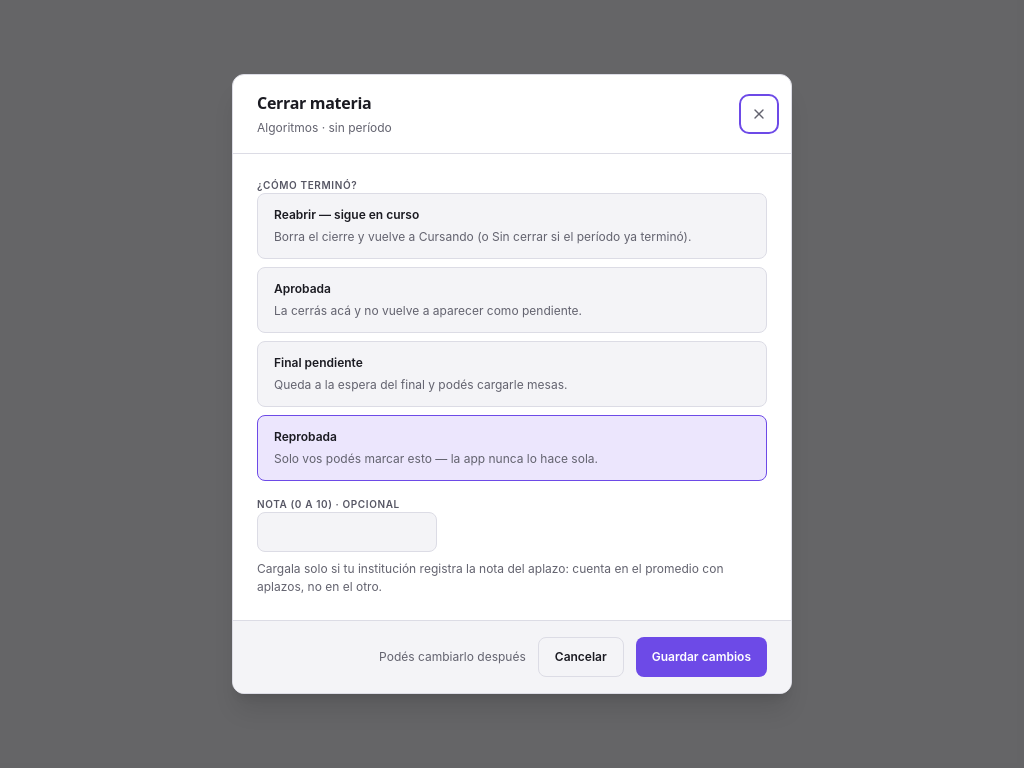
Scenario: CerrarMateriaModal — reopen option › selecting it on a closed ungraded subject warns only the closure goes
Click the button "Reabrir": (512, 226) top-left (257, 193), bottom-right (767, 259)
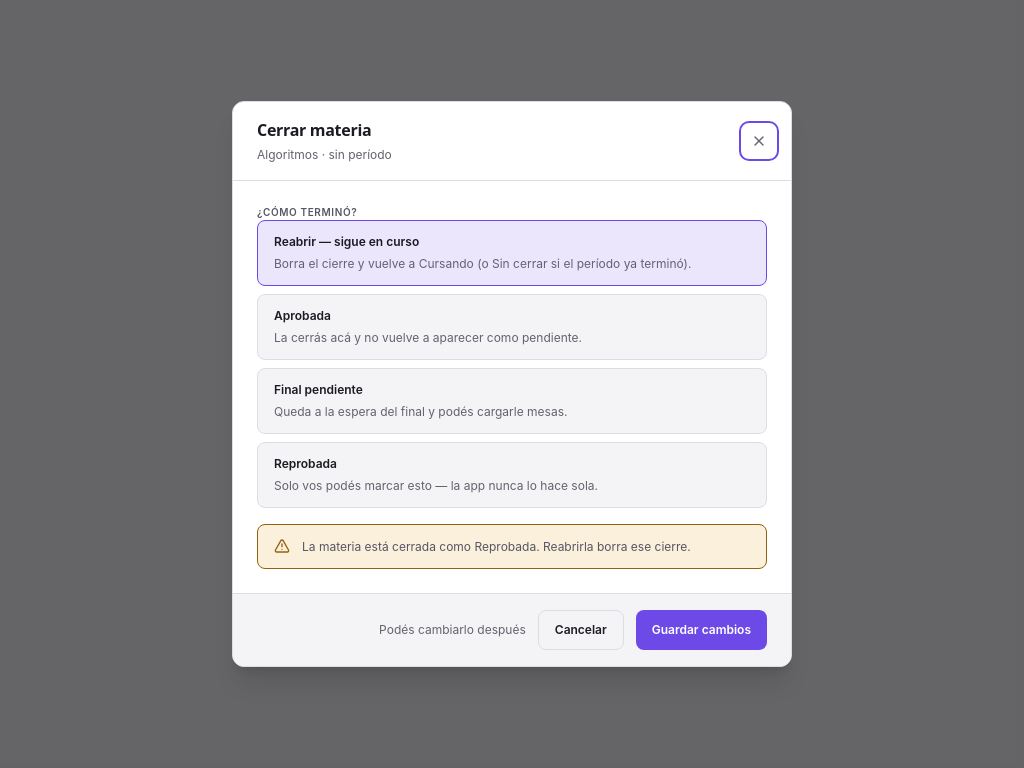
Expected: the text "La materia está cerrada como Reprobada. Reabrirla borra ese cierre." is shown, top-left (302, 537), bottom-right (691, 556)
